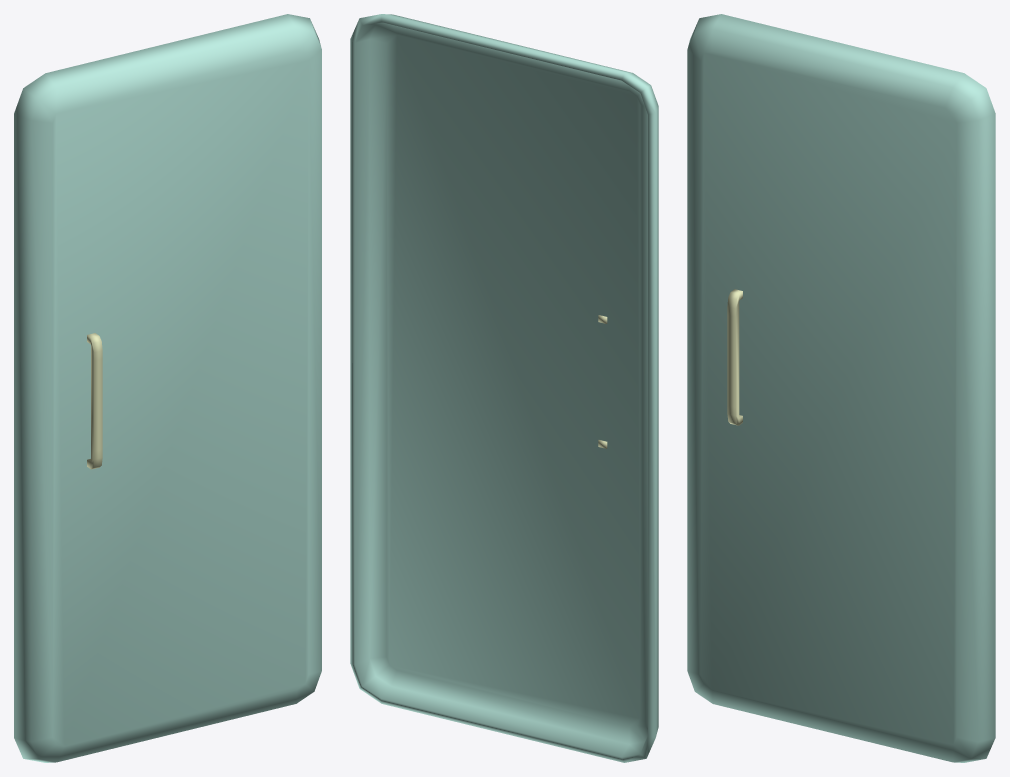
File: K_FridgeDoor.glb
3 renders of one model, left to right at view 1: azimuth 30°, elevation 25°; view 2: azimuth 150°, elevation 25°; view 3: azimuth 330°, elevation 25°, orthographic.
Parts seen in each view (by area): view 1: Kitchen_FridgeDoor; view 2: Kitchen_FridgeDoor; view 3: Kitchen_FridgeDoor.
Part boxes in pixels (x1,y1,x2,y2): Kitchen_FridgeDoor: [14, 14, 321, 762]; Kitchen_FridgeDoor: [350, 14, 658, 762]; Kitchen_FridgeDoor: [687, 14, 995, 762].
Size of the model in its own units: 1.3 by 2.8 by 0.172.
